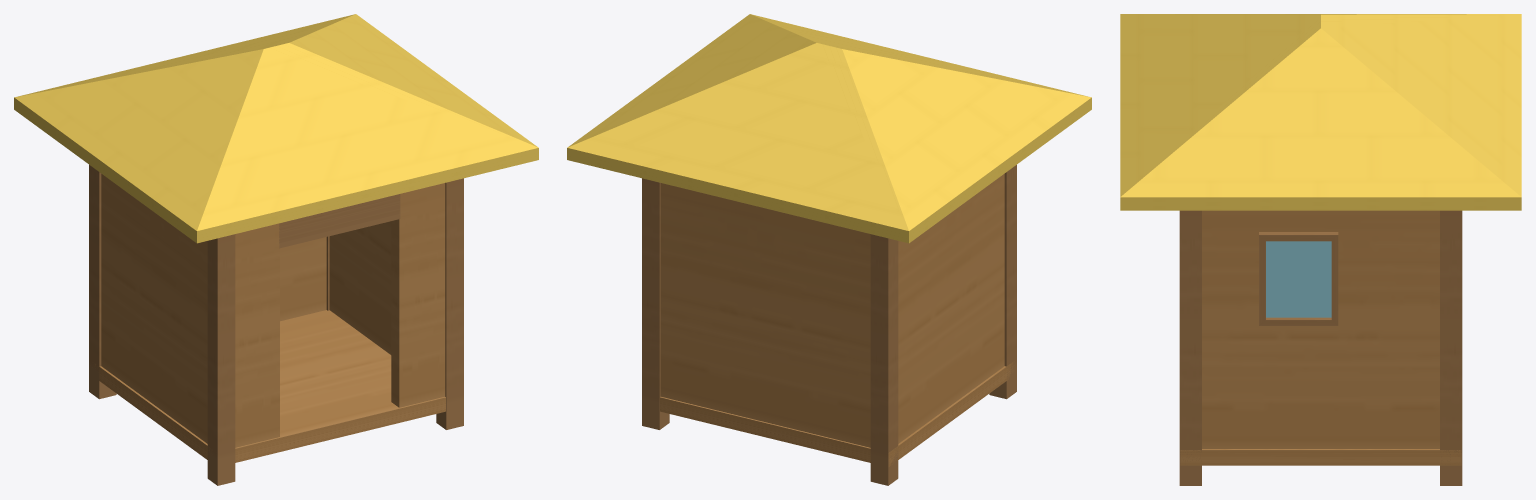
File: hut_brown.glb
3 renders of one model, left to right at view 1: azimuth 30°, elevation 25°; view 2: azimuth 150°, elevation 25°; view 3: azimuth 270°, elevation 25°, orthographic. The views are drawn at different scales.
Parts seen in each view (by area): view 1: beach_hut_brown; view 2: beach_hut_brown; view 3: beach_hut_brown.
Boxes of the visible parts, bbox=[...] form: beach_hut_brown: bbox=[14, 14, 538, 485]; beach_hut_brown: bbox=[567, 14, 1091, 485]; beach_hut_brown: bbox=[1120, 14, 1521, 485].
Bounding box in the file's own units: 3.5 × 3.55 × 3.24.
Materials: 1 (1 with a texture image).
